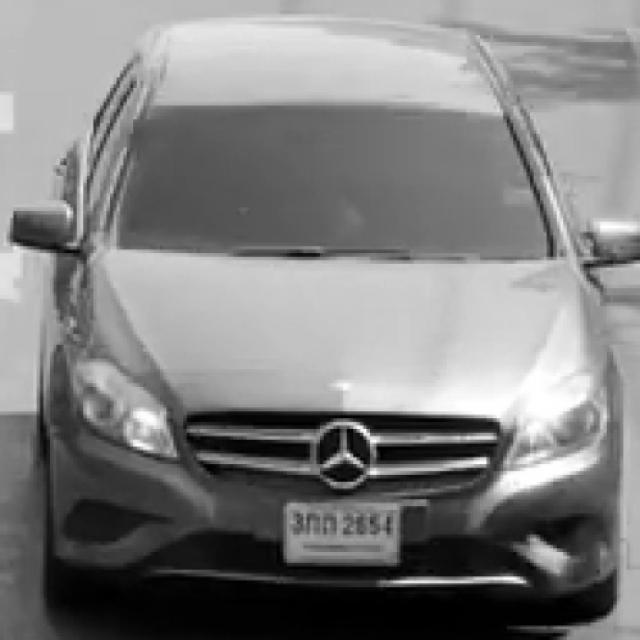plate: (288, 500, 399, 563)
